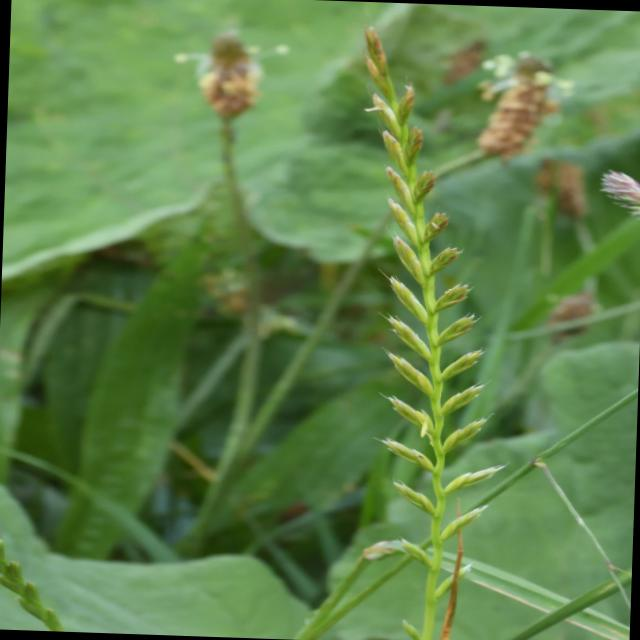Lolium: (332, 21, 525, 640)
